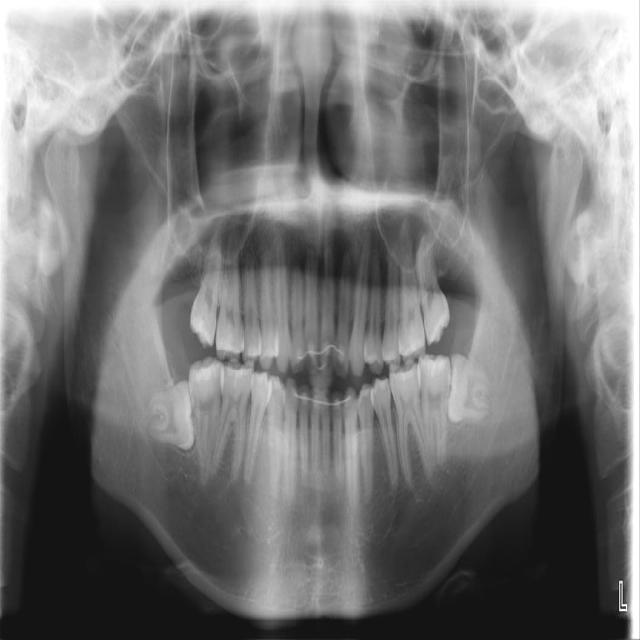Filling: (191, 360, 218, 381), (420, 357, 445, 376)
impacted tooth: (144, 382, 192, 451), (447, 354, 492, 422)
